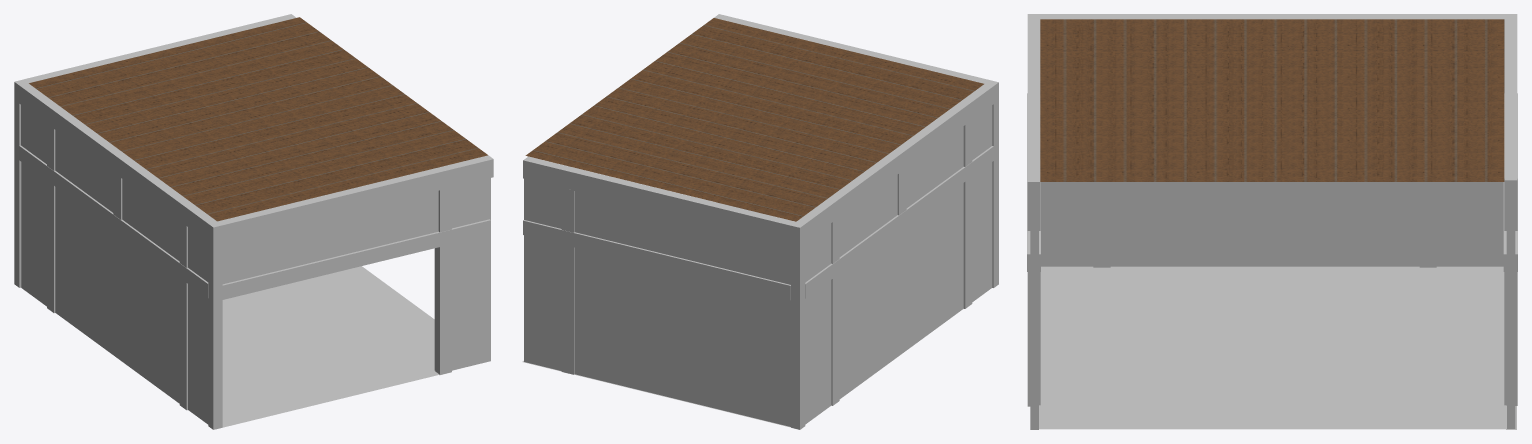
File: 精神世界の一部屋 左.fbx
The picture shows the model from 3 angles, left to right: view 1: azimuth 30°, elevation 25°; view 2: azimuth 150°, elevation 25°; view 3: azimuth 270°, elevation 25°; orthographic projection. The views are drawn at different scales.
Visible parts, largest first — view 1: 平面.099, 畳.005, 立方体.054, 立方体.056, 立方体.051, 立方体.052, 平面.090, 平面.089, 平面.095, 立方体.055, 平面.094, 平面.087 (+6 smaller); view 2: 平面.099, 立方体.057, 立方体.054, 立方体.053, 立方体.051, 平面.088, 平面.089, 平面.093, 立方体.055, 平面.094, 平面.086, 平面.097 (+4 smaller); view 3: 畳.005, 平面.099, 立方体.054, 立方体.055, 平面.089, 平面.090, 平面.088, 立方体.052, 平面.091, 平面.092, 立方体.057, 平面.097 (+3 smaller).
Boxes of the visible parts, left/top/right/bottom form: 平面.099: left=29, top=17, right=487, bottom=221; 畳.005: left=222, top=266, right=434, bottom=422; 立方体.054: left=55, top=187, right=208, bottom=424; 立方体.056: left=222, top=190, right=438, bottom=284; 立方体.051: left=21, top=105, right=208, bottom=281; 立方体.052: left=452, top=178, right=490, bottom=370; 平面.090: left=217, top=155, right=493, bottom=243; 平面.089: left=19, top=83, right=216, bottom=241; 平面.095: left=222, top=219, right=490, bottom=299; 立方体.055: left=21, top=162, right=46, bottom=306; 平面.094: left=19, top=145, right=208, bottom=297; 平面.087: left=208, top=221, right=222, bottom=429; 平面.099: left=525, top=18, right=983, bottom=221; 立方体.057: left=524, top=235, right=790, bottom=426; 立方体.054: left=839, top=162, right=992, bottom=398; 立方体.053: left=524, top=178, right=790, bottom=284; 立方体.051: left=805, top=105, right=992, bottom=282; 平面.088: left=523, top=156, right=795, bottom=243; 平面.089: left=796, top=84, right=993, bottom=241; 平面.093: left=523, top=220, right=790, bottom=300; 立方体.055: left=805, top=280, right=831, bottom=424; 平面.094: left=805, top=146, right=993, bottom=298; 平面.086: left=791, top=222, right=805, bottom=429; 平面.097: left=561, top=187, right=574, bottom=374; 畳.005: left=1039, top=266, right=1506, bottom=429; 平面.099: left=1040, top=19, right=1504, bottom=181; 立方体.054: left=1041, top=182, right=1419, bottom=266; 立方体.055: left=1436, top=182, right=1503, bottom=266; 平面.089: left=1040, top=14, right=1504, bottom=19; 平面.090: left=1027, top=19, right=1040, bottom=204; 平面.088: left=1504, top=19, right=1517, bottom=202; 立方体.052: left=1030, top=204, right=1038, bottom=429; 平面.091: left=1093, top=182, right=1110, bottom=267; 平面.092: left=1419, top=182, right=1436, bottom=267; 立方体.057: left=1507, top=272, right=1515, bottom=428; 平面.097: left=1504, top=171, right=1517, bottom=405.
Bounding box in the file's own units: 463 × 320 × 571.
